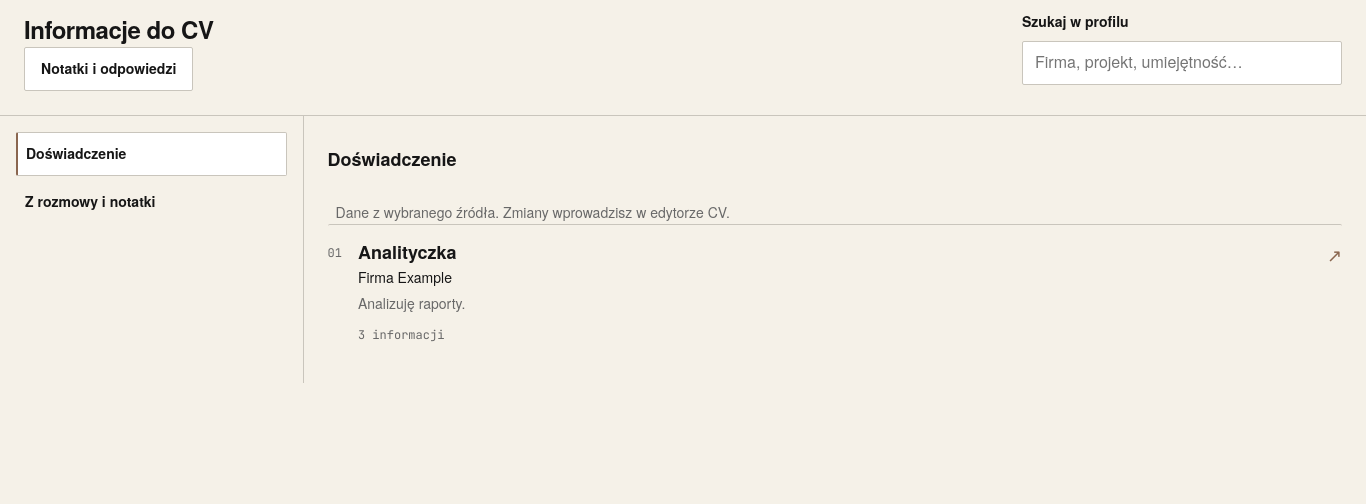
Test: shows source fields without edit, delete, addition or classification controls by default
Click the button with aria-label "Otwórz wpis: Analityczka" at (407, 252), box left=328, top=224, right=1342, bottom=360
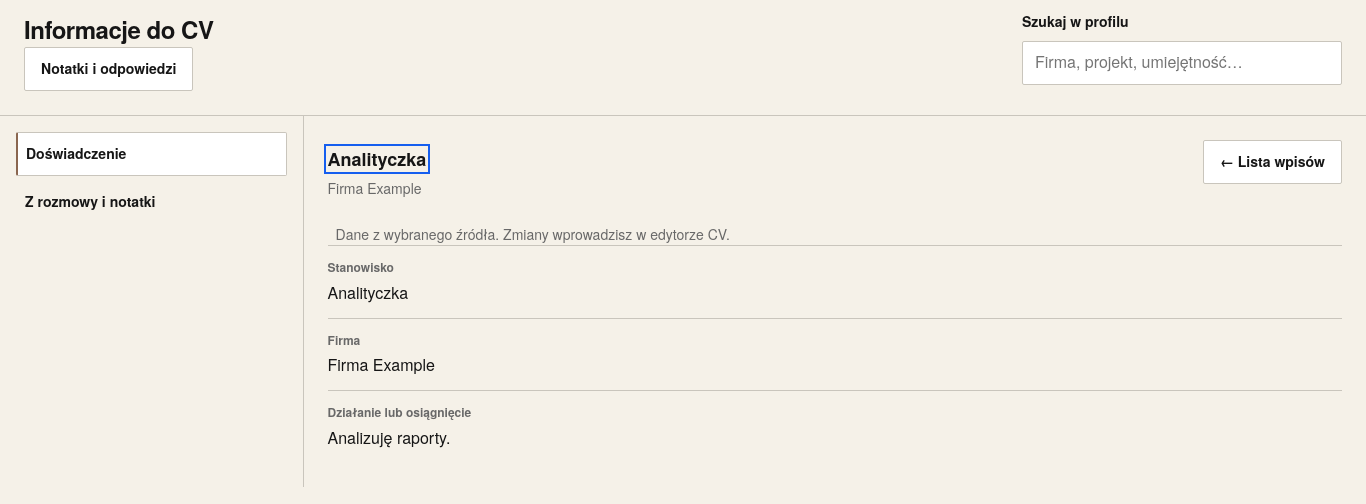
Expected: the 1st text "Firma Example" is shown, left=328, top=178, right=426, bottom=200
